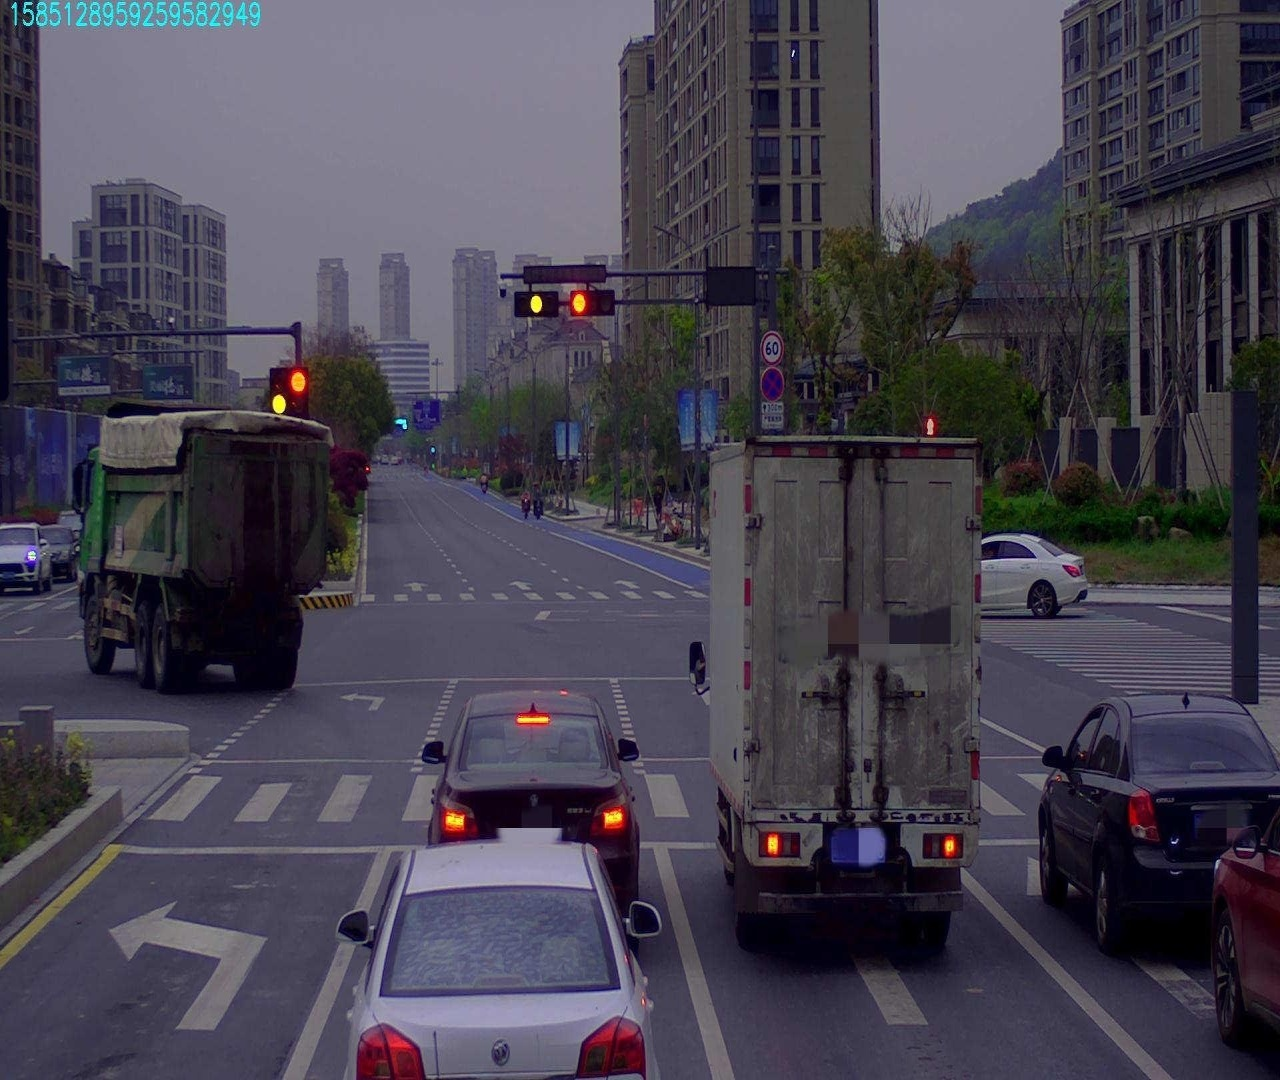red: (570, 292, 614, 316)
yellow: (514, 292, 553, 317)
